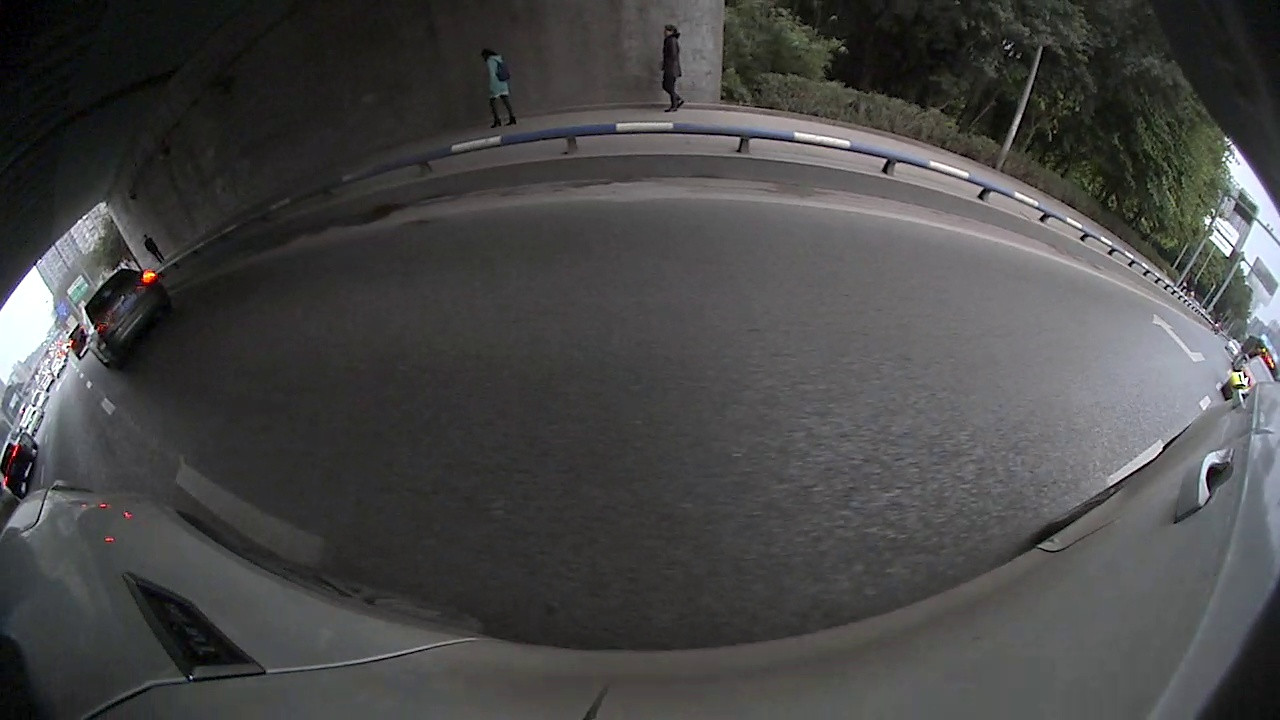car: (82, 265, 173, 372), (1219, 353, 1276, 403), (1, 430, 40, 499)
person: (482, 46, 506, 126), (663, 25, 681, 113), (144, 234, 156, 263)
